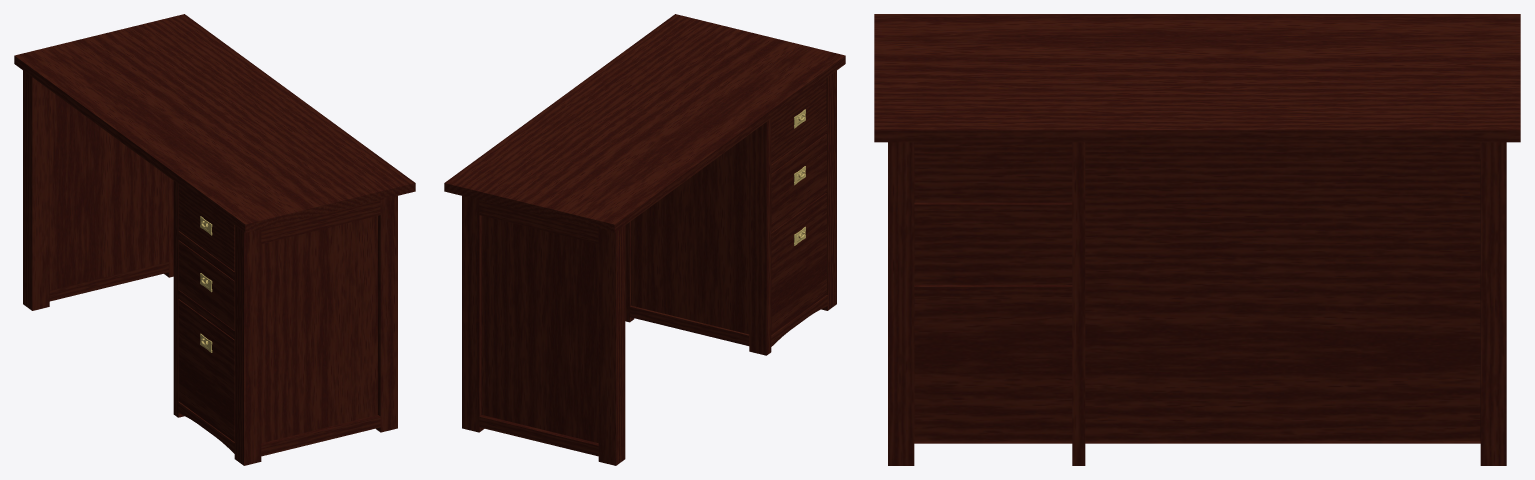
The model's file is desk_v2.dae.
3 views of the same model, side by side, from view 1: azimuth 30°, elevation 25°; view 2: azimuth 150°, elevation 25°; view 3: azimuth 270°, elevation 25° (orthographic). The views are drawn at different scales.
Visible parts, largest first — view 1: Desk_023; view 2: Desk_023; view 3: Desk_023.
Part boxes in pixels (bbox=[...]): Desk_023: bbox=[14, 14, 415, 465]; Desk_023: bbox=[444, 14, 845, 465]; Desk_023: bbox=[874, 14, 1520, 465].
Size of what is drawn, in the model's own units: 1.35 by 3.18 by 1.87.
Materials: 1 (1 with a texture image).
